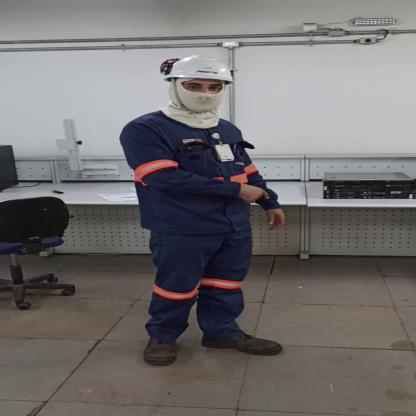Balaclava: (158, 79, 235, 130)
Capacete: (153, 52, 249, 84)
